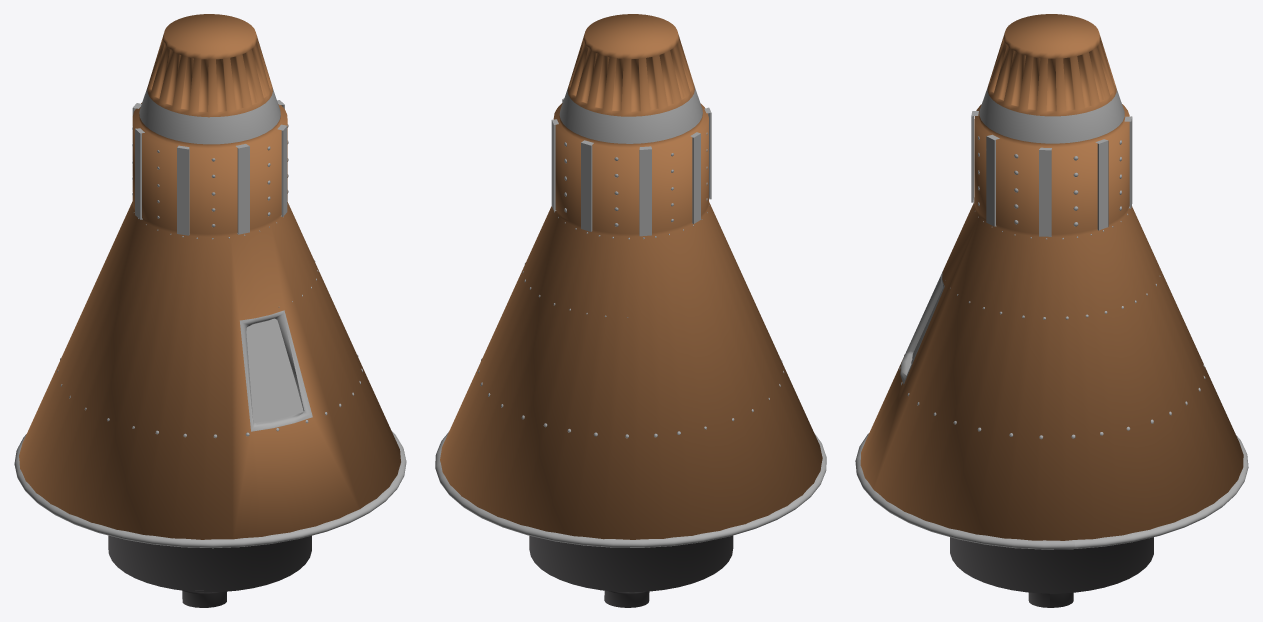
The picture shows the model from 3 angles, left to right: view 1: azimuth 30°, elevation 25°; view 2: azimuth 150°, elevation 25°; view 3: azimuth 270°, elevation 25°; orthographic projection.
Visible parts, largest first — view 1: pCylinder2; view 2: pCylinder2; view 3: pCylinder2.
Boxes of the visible parts, x1,y1,x2,y2 form: pCylinder2: (14,14,406,607); pCylinder2: (435,14,826,607); pCylinder2: (855,14,1248,607).
Size of the model in its own units: 599 by 920 by 599.
